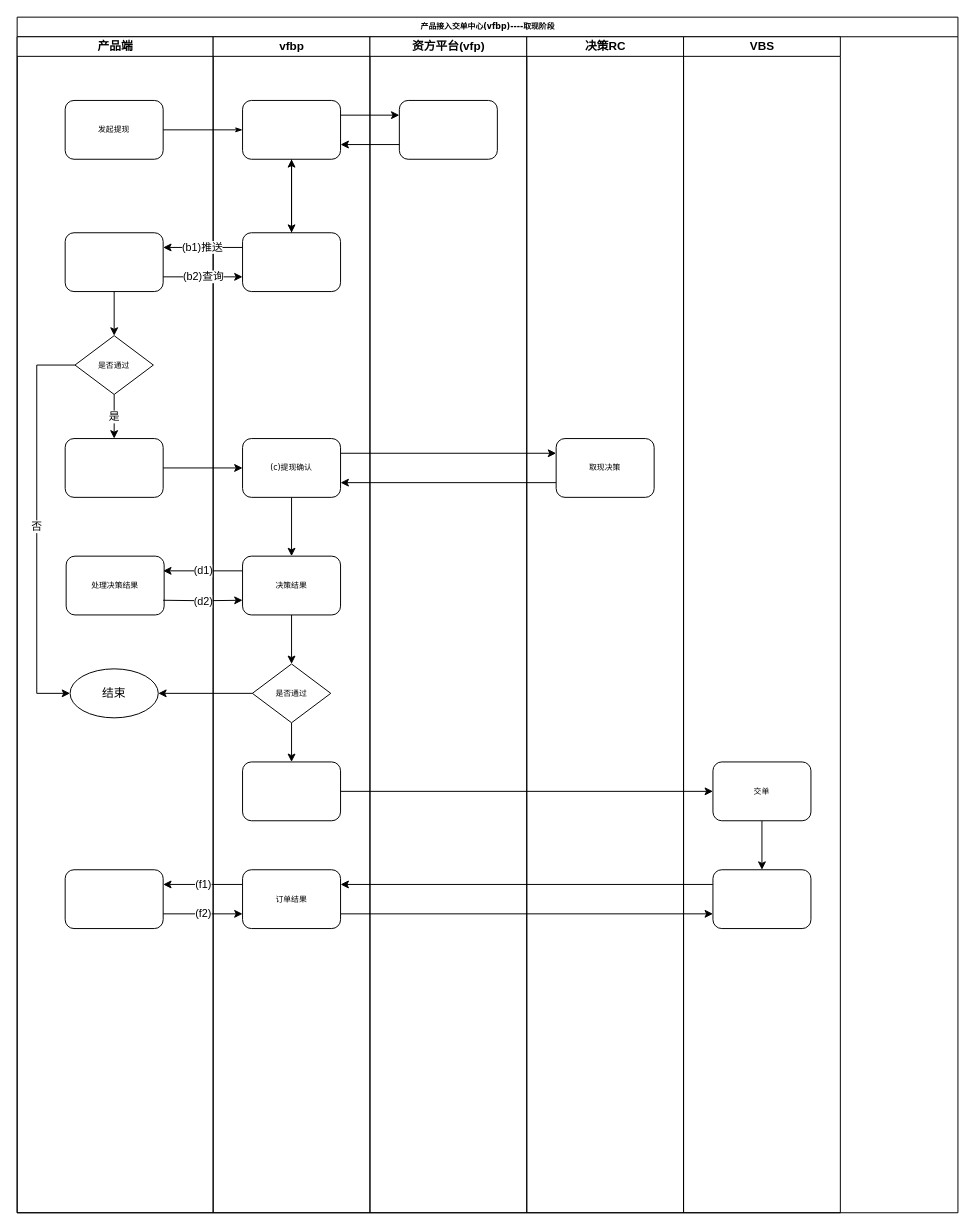
Image size: 975x1230. Some labels were removed from this diagram. Here are the shapes that lost their labels. From the top down, the box of each, then its label:
(242, 99, 341, 159): (a)提现申请
(398, 99, 497, 159): 资方路由
(64, 232, 163, 292): 处理资方结果
(242, 232, 341, 292): 资方结果
(64, 438, 163, 497): 发起提现确认
(242, 761, 341, 821): 预交单 (VBS)交单
(64, 869, 163, 929): 订单状态
(712, 869, 811, 929): 放款结查
